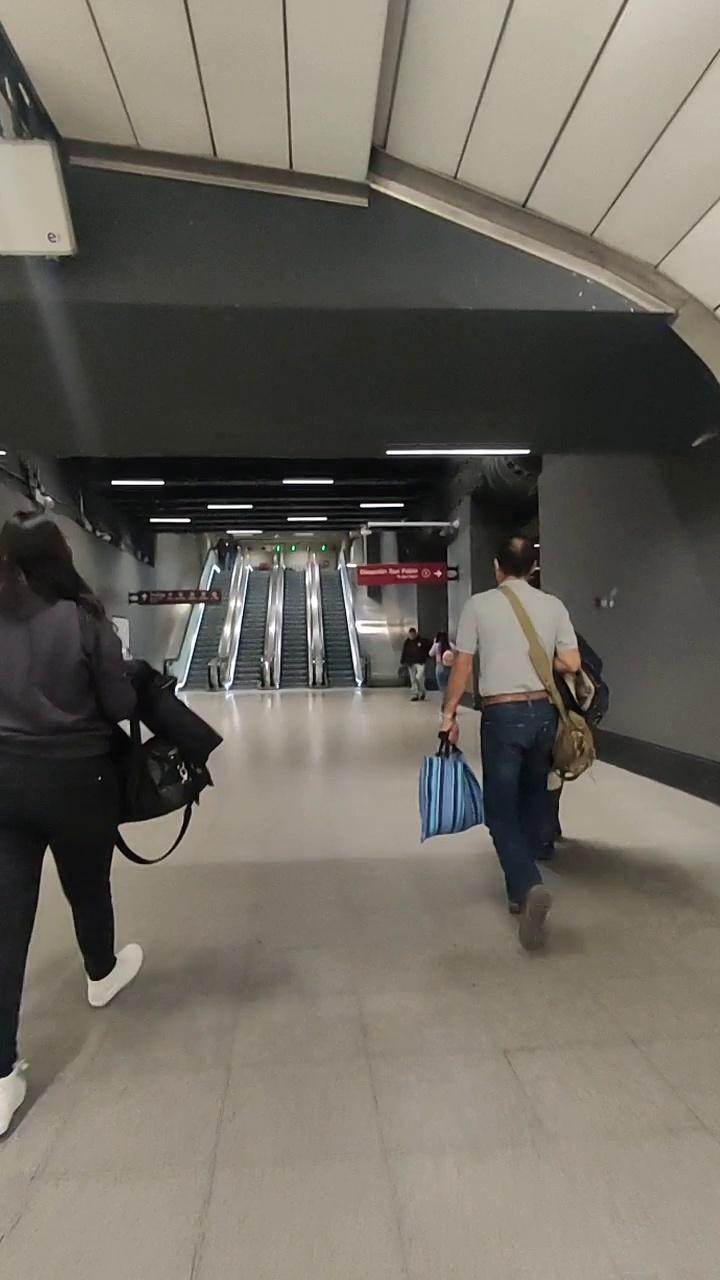right arrow: (432, 568, 443, 580)
